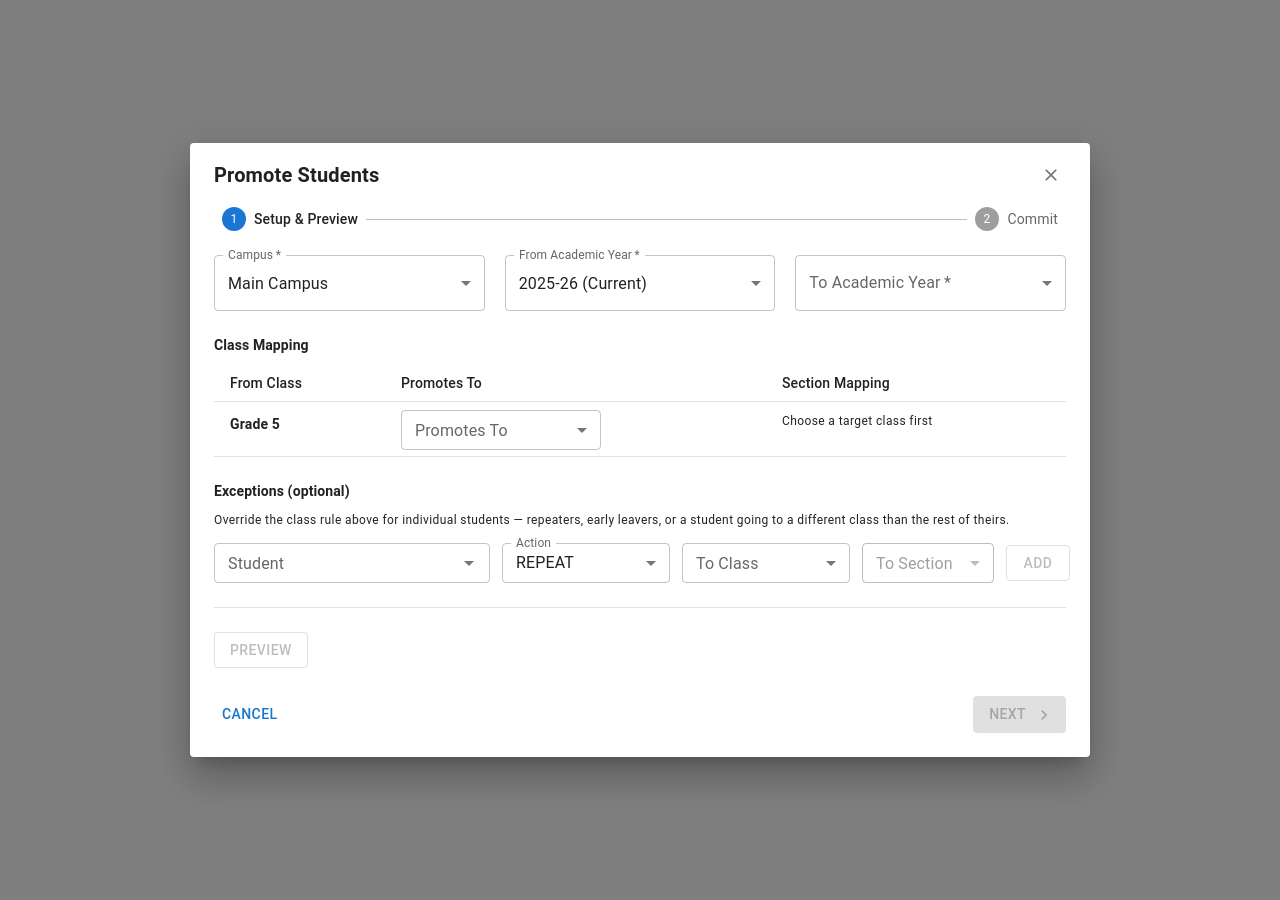
Test case: PromotionWizard › blocks Next while the preview reports conflicts, then unblocks once a mapping resolves them
Expected: the text "Grade 5" is shown, [214,402,385,456]
What coordinates should you click on to do the following:
click the dropdown named "To Academic Year" next to "To Academic Year"
I would click on:
 (931, 283)
Its box is [795,255,1066,311].
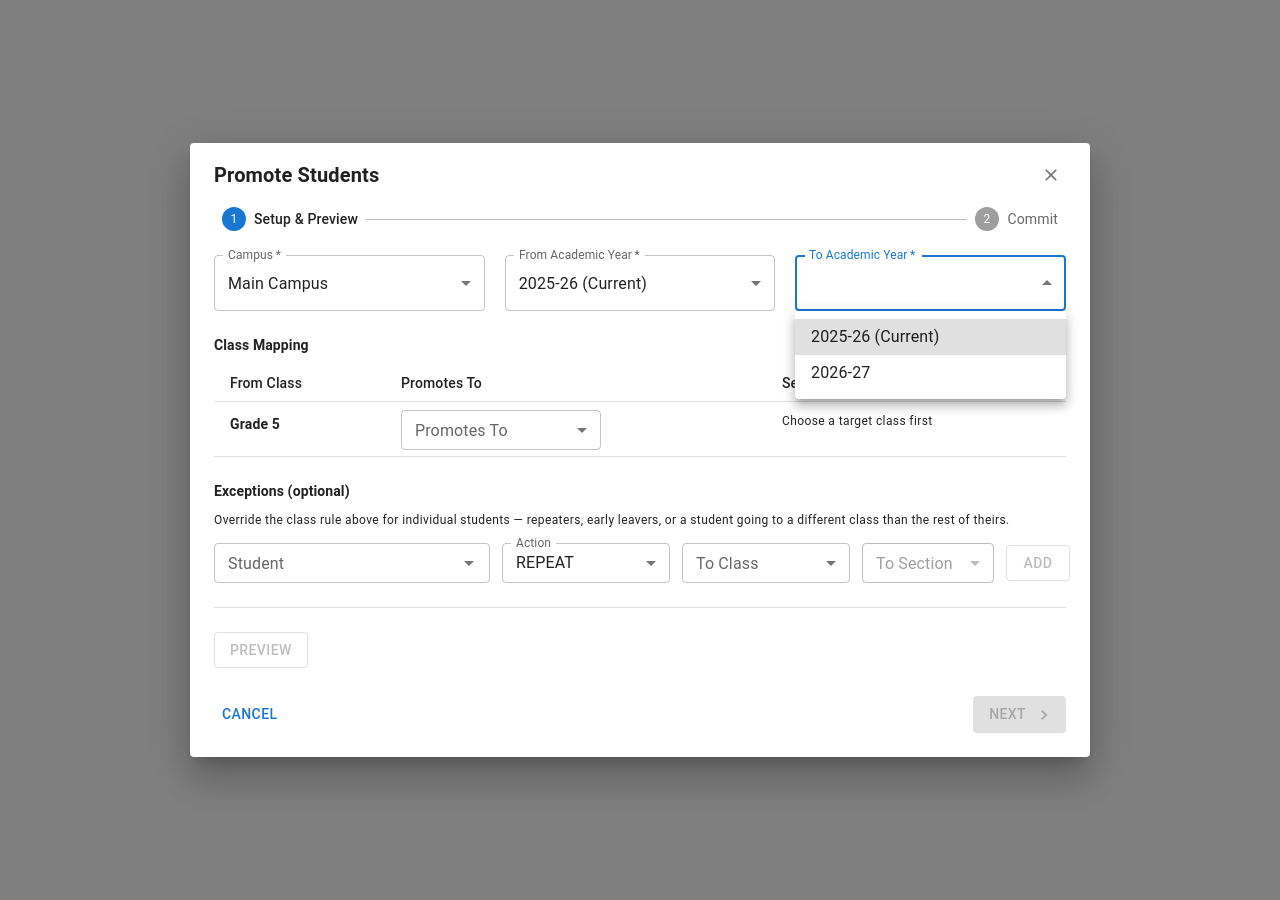
What coordinates should you click on to do the following:
click the option "2026-27"
I would click on:
 (841, 372)
Its box is [811,363,870,382].
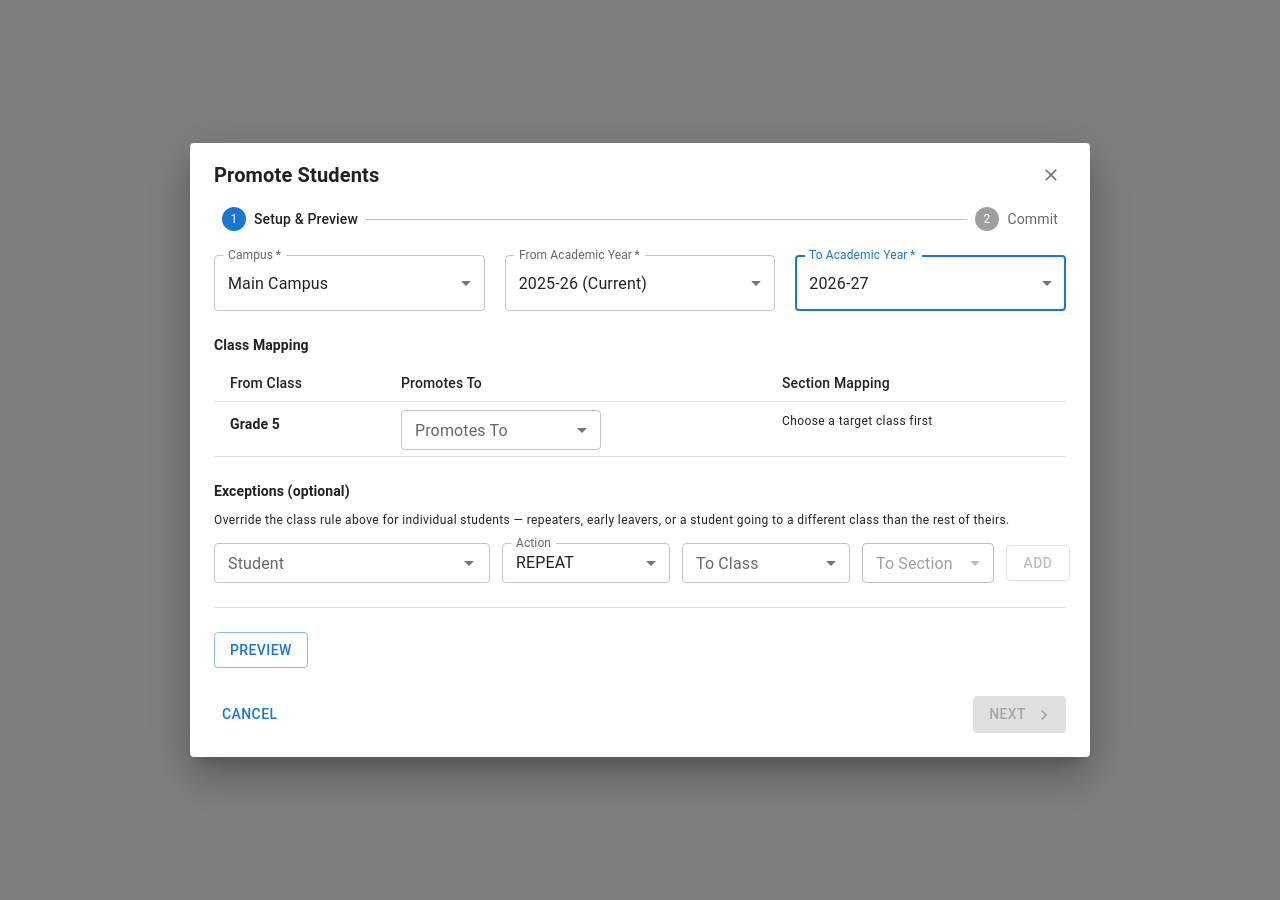
What coordinates should you click on to do the following:
click the button "Preview"
I would click on:
 (261, 650)
Its box is [214,632,308,668].
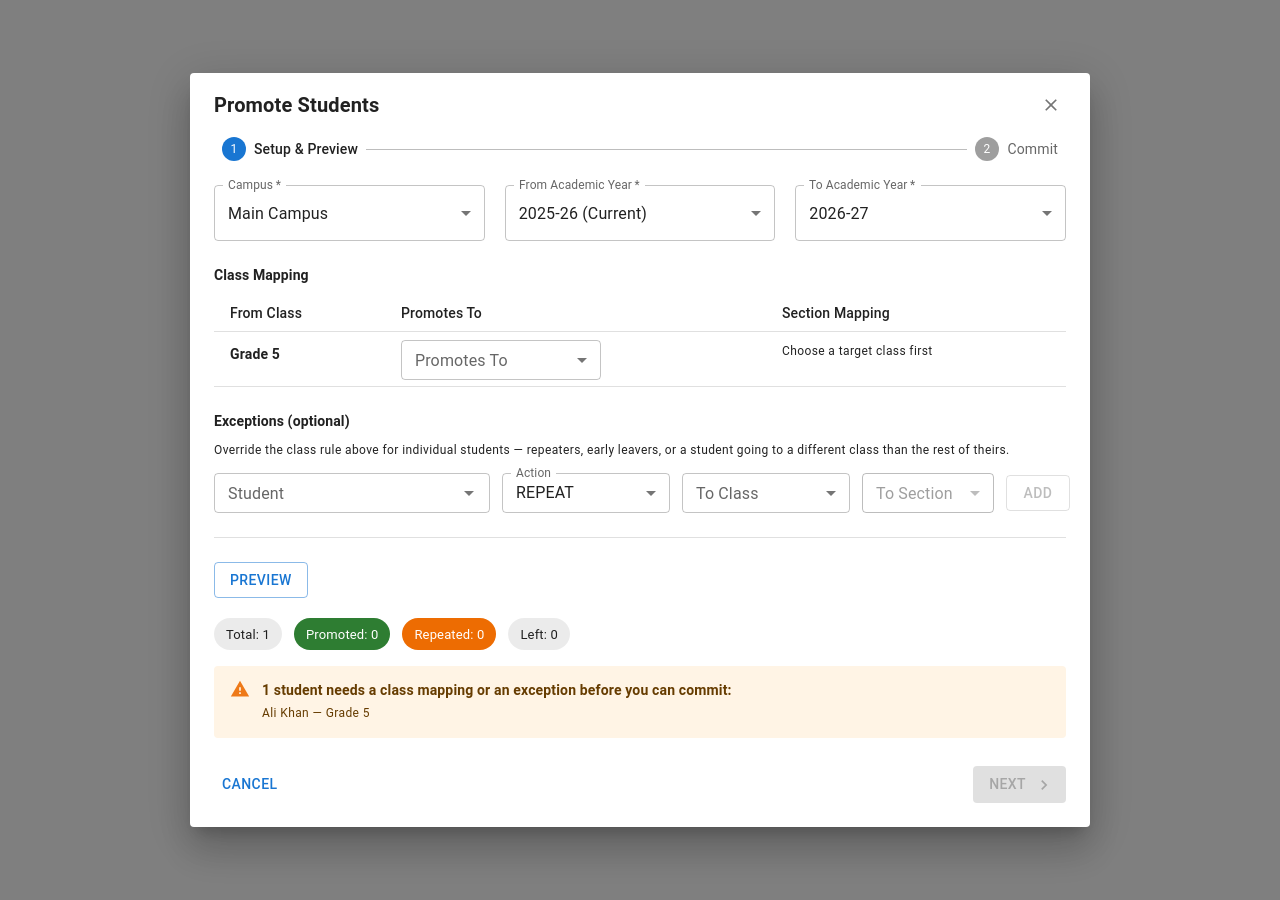
Expected: the button "Next" is disabled, [973,766,1066,803]
Now the text "class mapping or an exception" is shown, box [365,682,732,698]
What coordinates should you click on to do the following:
click the dropdown named "Promotes To" in the row of "Choose a target class first"
I would click on:
 (501, 360)
Its box is [401,340,601,380].
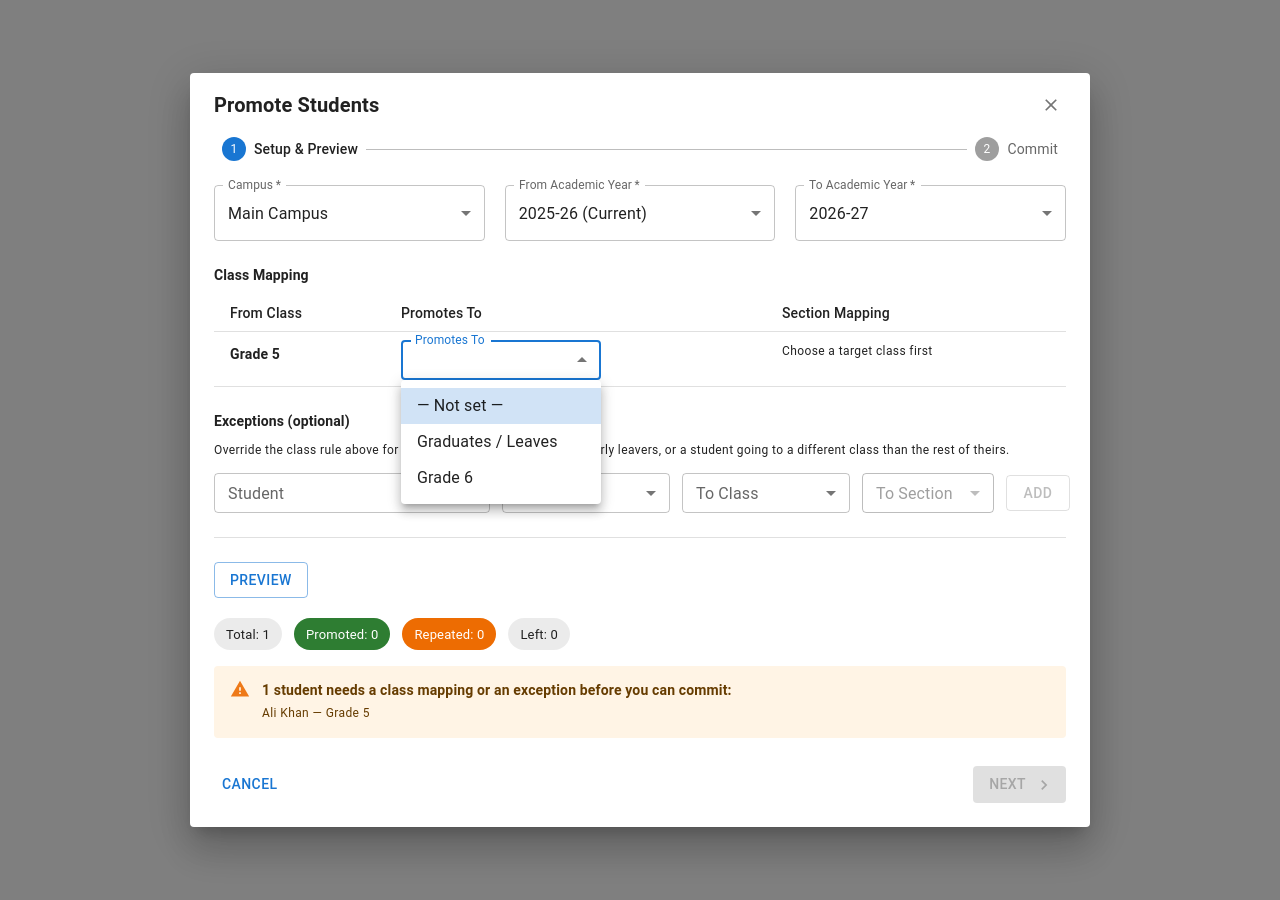
What coordinates should you click on to do the following:
click the option "Grade 6"
I would click on:
 (445, 478)
Its box is [417,468,473,487].
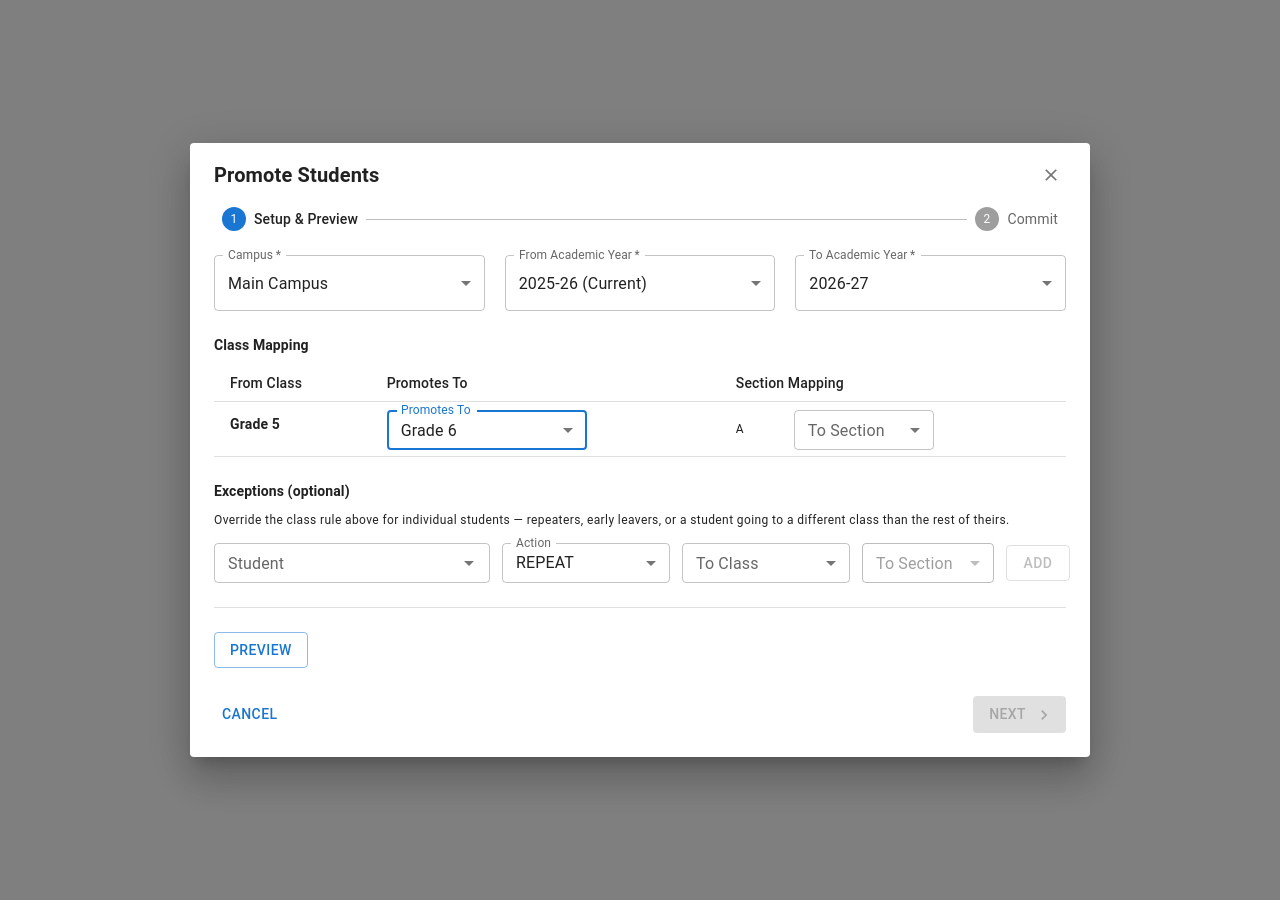
Now the text "class mapping or an exception" is gone
What coordinates should you click on to do the following:
click the button "Preview"
I would click on:
 (261, 650)
Its box is [214,632,308,668].
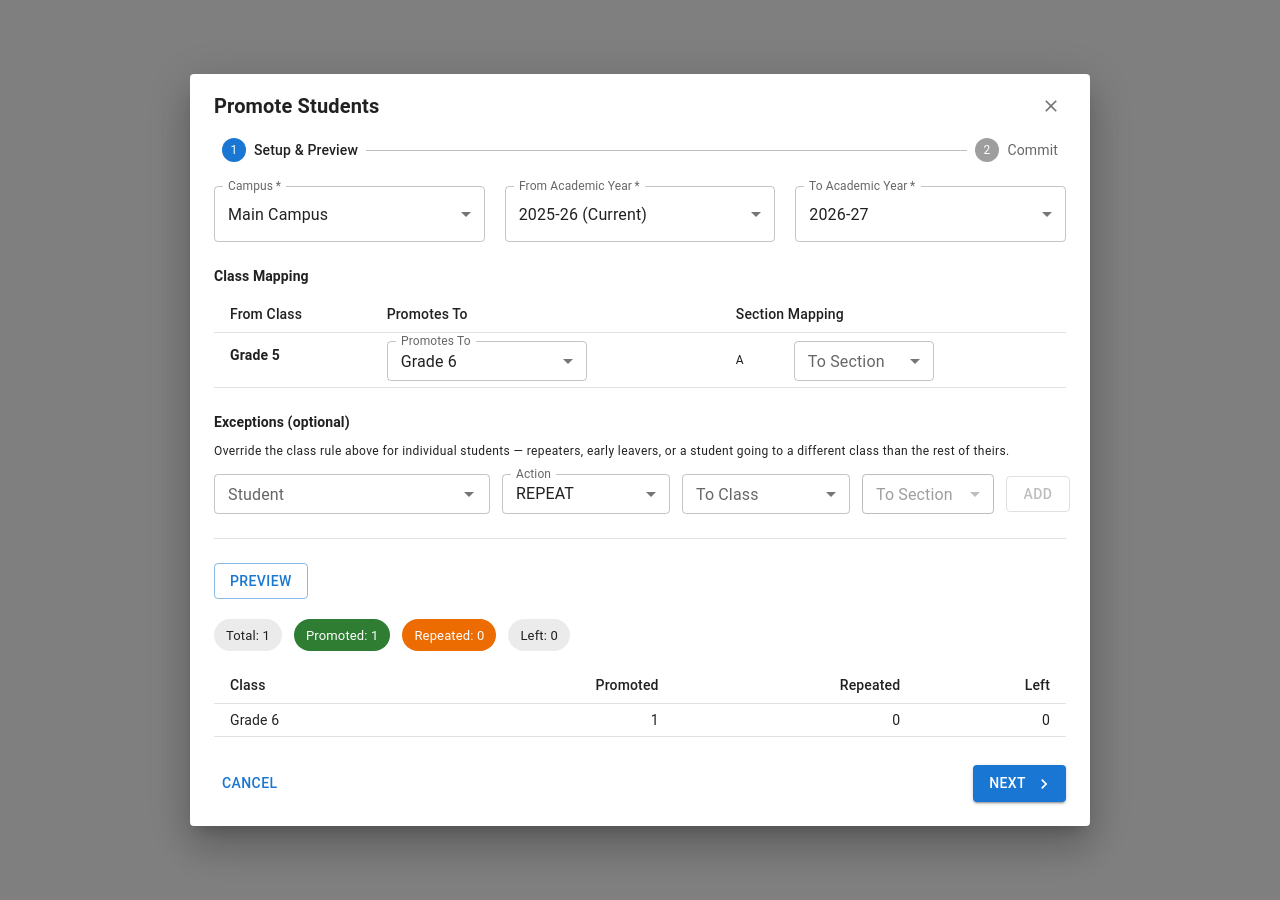
Now the button "Next" is enabled, box [973,765,1066,802]
